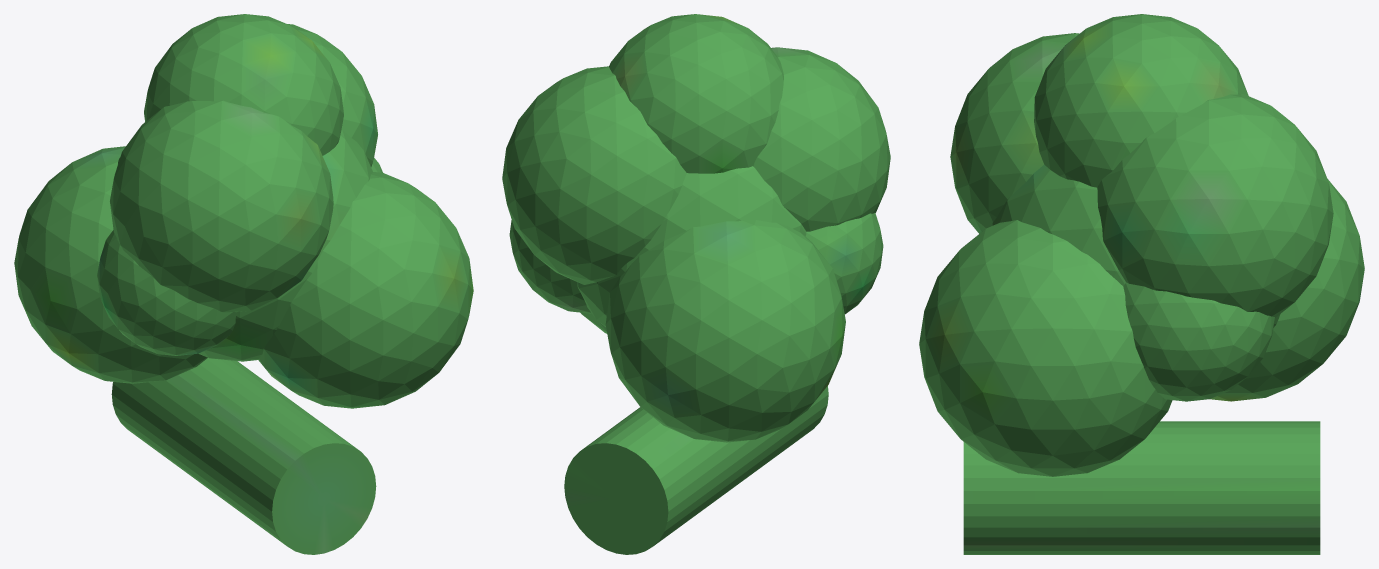
Rendered from model_pro_431d61e1.glb.
3 views of the same model, side by side, from view 1: azimuth 30°, elevation 25°; view 2: azimuth 150°, elevation 25°; view 3: azimuth 270°, elevation 25° (orthographic). The views are drawn at different scales.
Visible parts, largest first — view 1: world; view 2: world; view 3: world.
Boxes of the visible parts, bbox=[...] form: world: bbox=[14, 14, 473, 554]; world: bbox=[502, 14, 890, 554]; world: bbox=[919, 14, 1364, 554].
Bounding box in the file's own units: 1 × 1.3 × 1.
